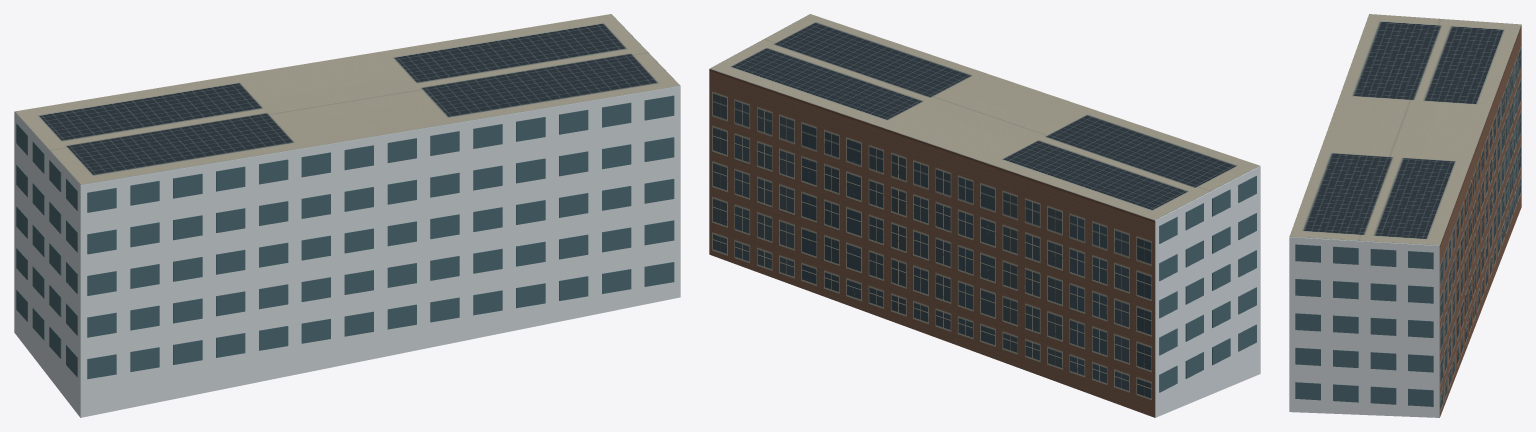
The model's file is fragments.glb.
3 renders of one model, left to right at view 1: azimuth 30°, elevation 25°; view 2: azimuth 150°, elevation 25°; view 3: azimuth 270°, elevation 25°, orthographic. The views are drawn at different scales.
Parts seen in each view (by area): view 1: SM_grad_Fragment_019, SM_grad_Fragment_006, SM_grad_Fragment_016, SM_grad_Fragment_055, SM_grad_Fragment_017, SM_grad_Fragment_035, SM_grad_Fragment_007, SM_grad_Fragment_012, SM_grad_Fragment_052, SM_grad_Fragment_000, SM_grad_Fragment_062, SM_grad_Fragment_063 (+25 smaller); view 2: SM_grad_Fragment_011, SM_grad_Fragment_047, SM_grad_Fragment_037, SM_grad_Fragment_018, SM_grad_Fragment_050, SM_grad_Fragment_057, SM_grad_Fragment_001, SM_grad_Fragment_044, SM_grad_Fragment_010, SM_grad_Fragment_022, SM_grad_Fragment_015, SM_grad_Fragment_025 (+24 smaller); view 3: SM_grad_Fragment_026, SM_grad_Fragment_021, SM_grad_Fragment_004, SM_grad_Fragment_013, SM_grad_Fragment_030, SM_grad_Fragment_059, SM_grad_Fragment_000, SM_grad_Fragment_039, SM_grad_Fragment_027, SM_grad_Fragment_015, SM_grad_Fragment_058, SM_grad_Fragment_003 (+24 smaller).
Part boxes in pixels (x1,y1,x2,y2): SM_grad_Fragment_019: (528, 144, 680, 261); SM_grad_Fragment_006: (387, 130, 545, 253); SM_grad_Fragment_016: (344, 241, 459, 360); SM_grad_Fragment_055: (259, 141, 373, 267); SM_grad_Fragment_017: (210, 257, 351, 360); SM_grad_Fragment_035: (329, 102, 462, 207); SM_grad_Fragment_007: (55, 296, 176, 417); SM_grad_Fragment_012: (65, 163, 172, 280); SM_grad_Fragment_052: (457, 79, 588, 190); SM_grad_Fragment_000: (511, 48, 649, 159); SM_grad_Fragment_062: (131, 145, 255, 240); SM_grad_Fragment_063: (448, 230, 545, 343); SM_grad_Fragment_011: (1051, 306, 1170, 409); SM_grad_Fragment_047: (1115, 202, 1185, 343); SM_grad_Fragment_037: (751, 64, 843, 175); SM_grad_Fragment_018: (818, 160, 909, 261); SM_grad_Fragment_050: (876, 123, 962, 227); SM_grad_Fragment_057: (990, 168, 1067, 276); SM_grad_Fragment_001: (1060, 185, 1127, 307); SM_grad_Fragment_044: (743, 159, 831, 257); SM_grad_Fragment_010: (972, 262, 1053, 374); SM_grad_Fragment_022: (1140, 170, 1246, 267); SM_grad_Fragment_015: (953, 125, 1051, 214); SM_grad_Fragment_025: (816, 83, 908, 162); SM_grad_Fragment_026: (1289, 225, 1396, 341); SM_grad_Fragment_021: (1382, 221, 1447, 312); SM_grad_Fragment_004: (1333, 347, 1422, 417); SM_grad_Fragment_013: (1346, 268, 1451, 353); SM_grad_Fragment_030: (1289, 329, 1342, 413); SM_grad_Fragment_059: (1395, 333, 1451, 417); SM_grad_Fragment_000: (1293, 188, 1395, 227); SM_grad_Fragment_039: (1338, 74, 1434, 119); SM_grad_Fragment_027: (1376, 56, 1494, 91); SM_grad_Fragment_015: (1408, 86, 1496, 164); SM_grad_Fragment_058: (1385, 24, 1499, 59); SM_grad_Fragment_003: (1371, 117, 1456, 160).
Size of the model in its own units: 2.2 by 0.8532 by 0.9314.
6 materials, 2 textured.
